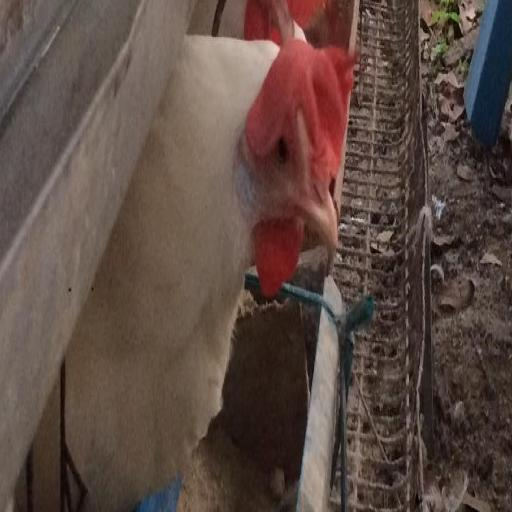healthy: (249, 35, 345, 295), (334, 288, 339, 289)
